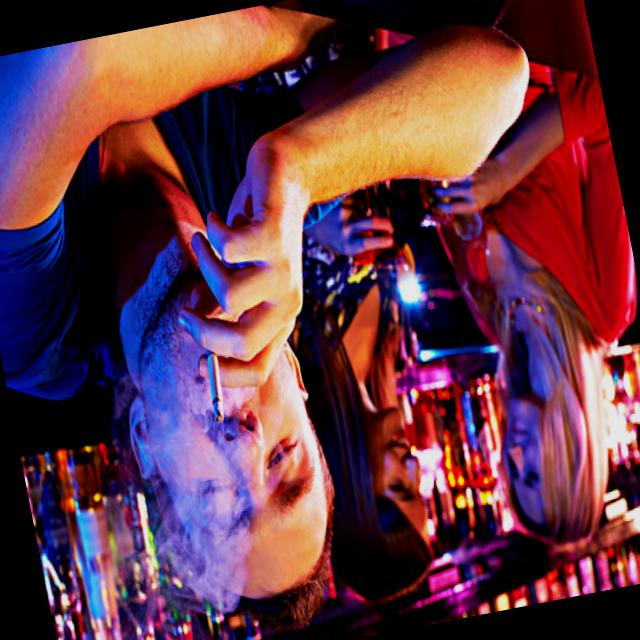cigarette: (198, 346, 230, 428)
